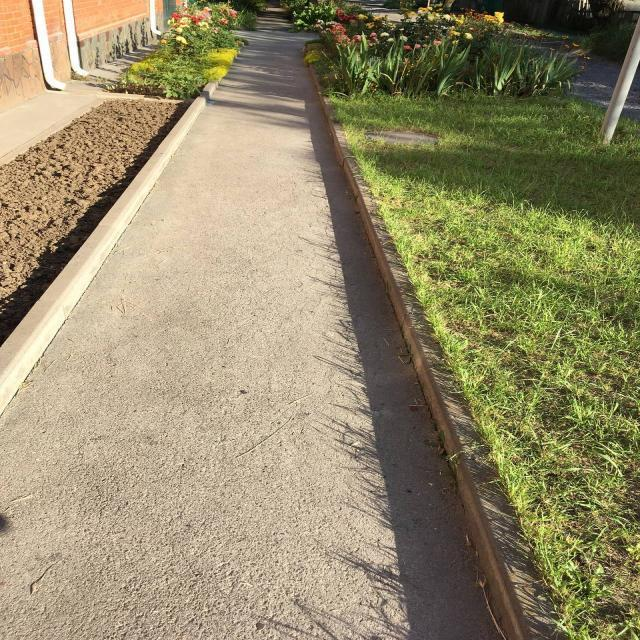bump: (450, 412, 566, 639), (0, 236, 104, 412), (387, 261, 467, 466), (86, 172, 155, 268)
